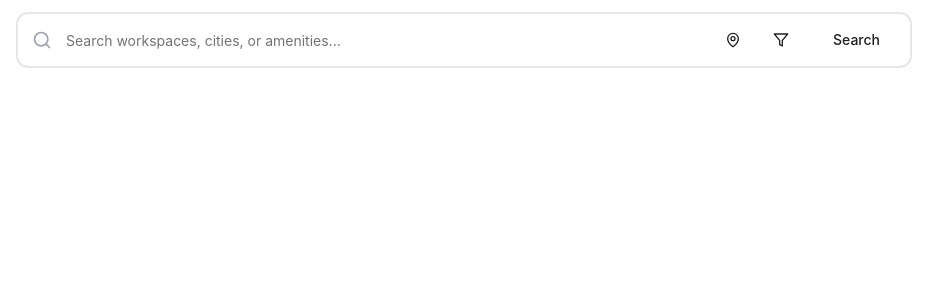
Scenario: SearchBar Component › Suggestions › should fetch and display suggestions after typing
Type "tech" into the field at coordinates (464, 40), box [16,12,912,68]
Wait 300 ms
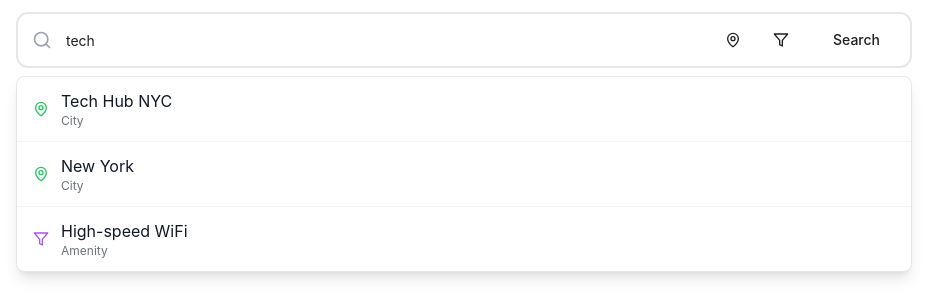
Result: the text "Tech Hub NYC" is shown at [61,91,172,111]
Result: the text "New York" is shown at [61,156,134,176]
Result: the text "High-speed WiFi" is shown at [61,221,188,241]
